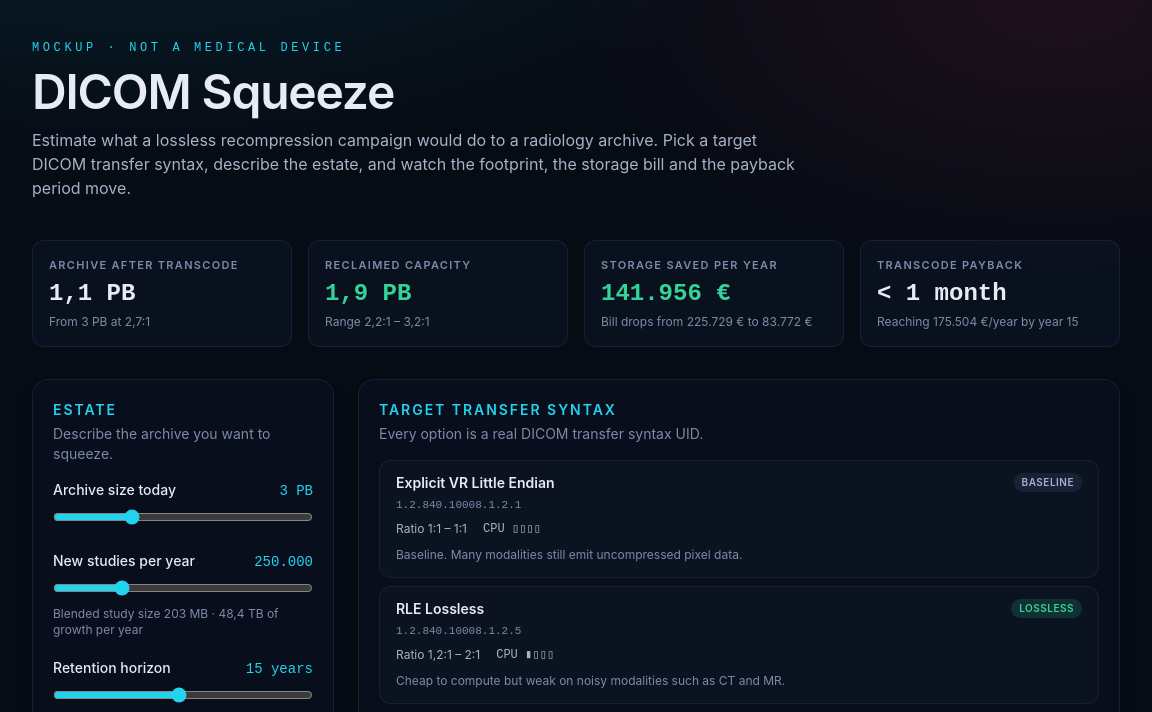
Test: App › drops the yearly saving to zero on the uncompressed baseline
Click the radio button labelled "Explicit VR Little Endian".
click(475, 482)  # box [379, 460, 1099, 578]
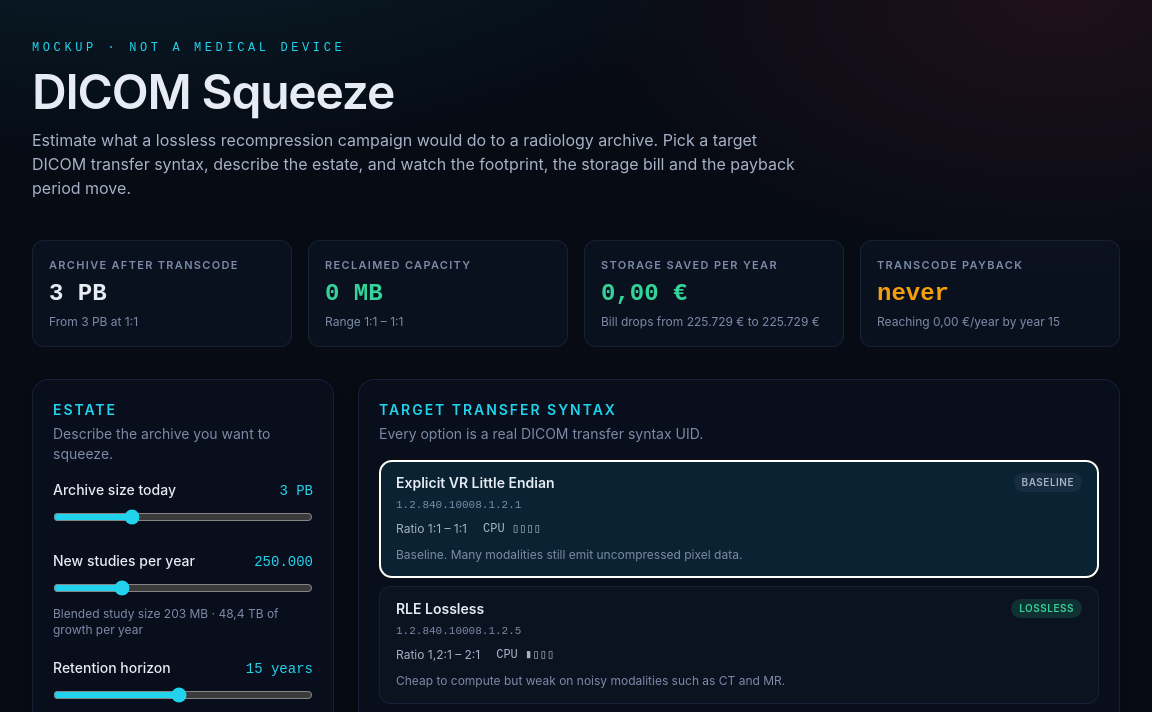
Expected: the text "Storage saved per year" is shown, [601, 258, 778, 272]
Expected: the text "0,00 €" is shown, [601, 280, 687, 306]
